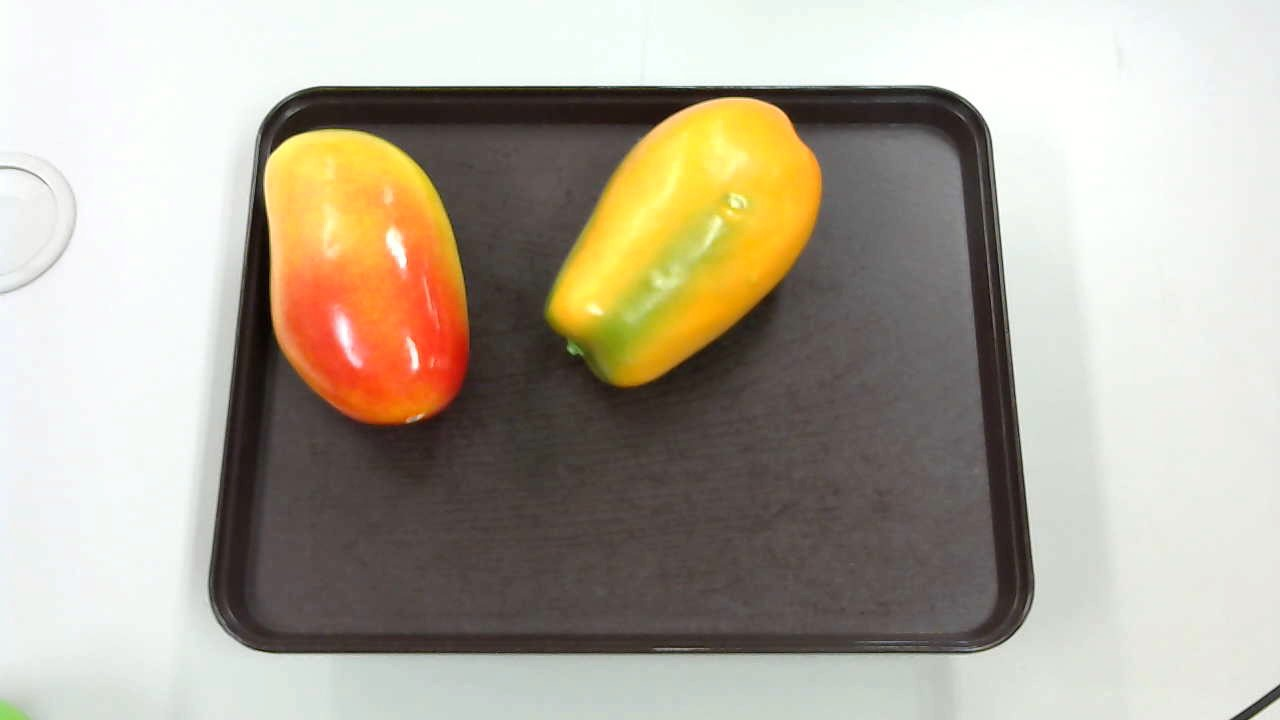papya: (540, 91, 835, 391)
red mango: (256, 128, 470, 421)
